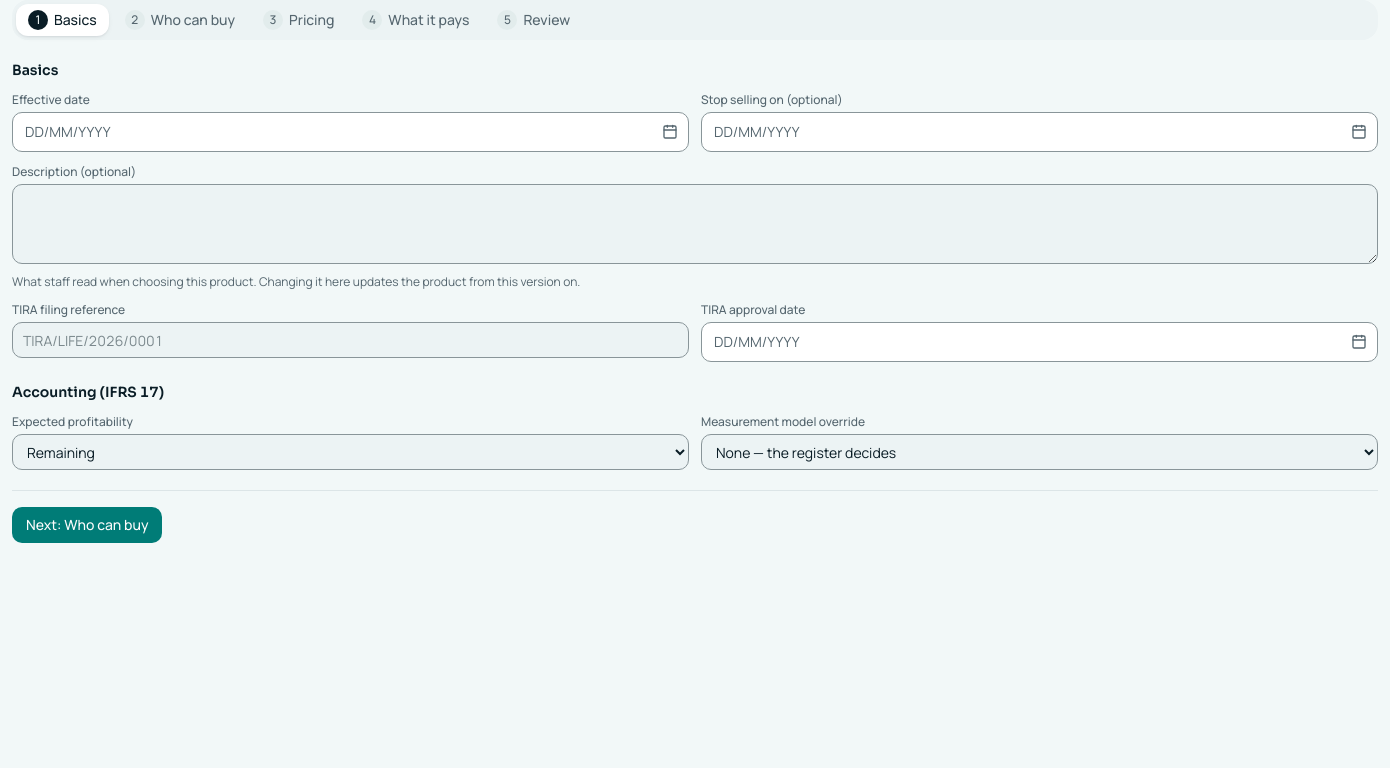
Scenario: PublishVersionForm steps › lists what is wrong on Review, with the way back to it
Click the button "5 Review" at (534, 20), box [485,4,582,36]
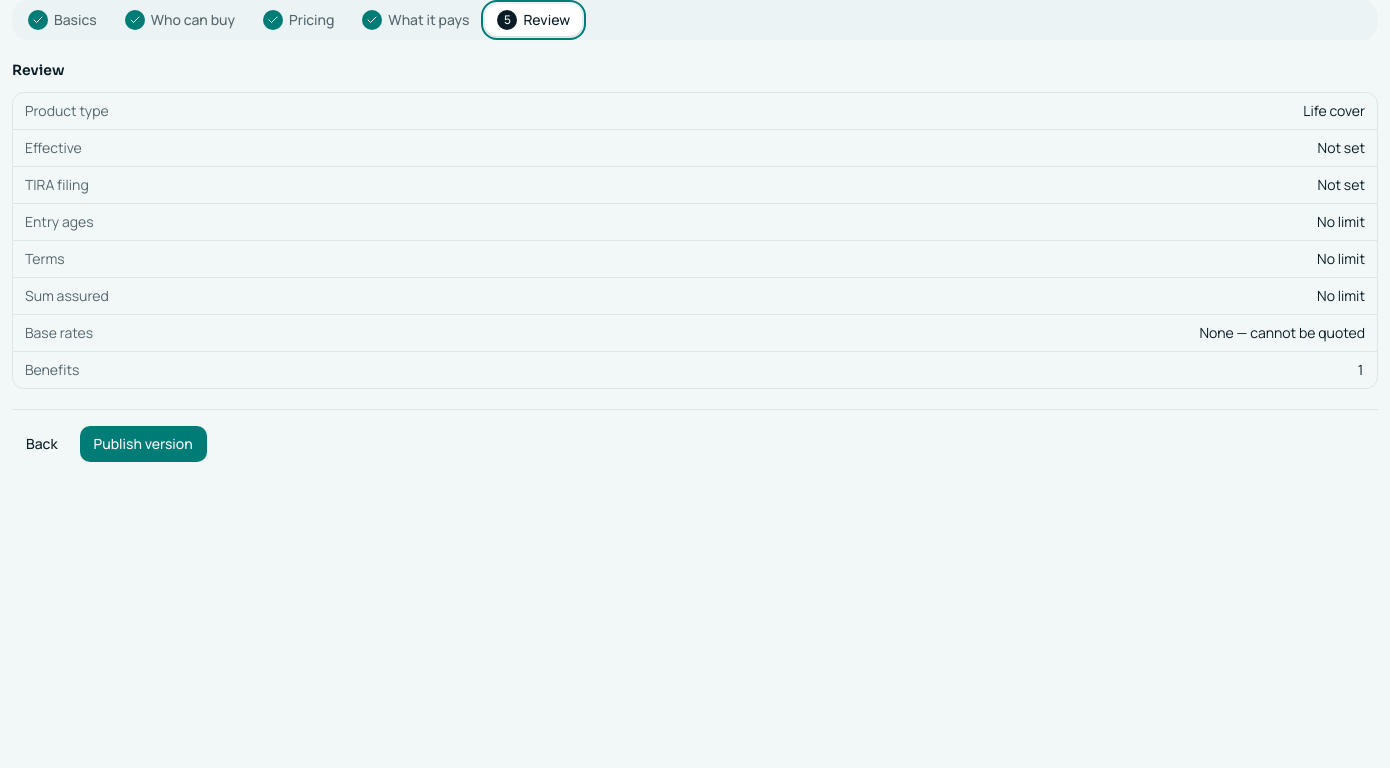
Click the button "Publish version" at (143, 444), box [80,426,207,462]
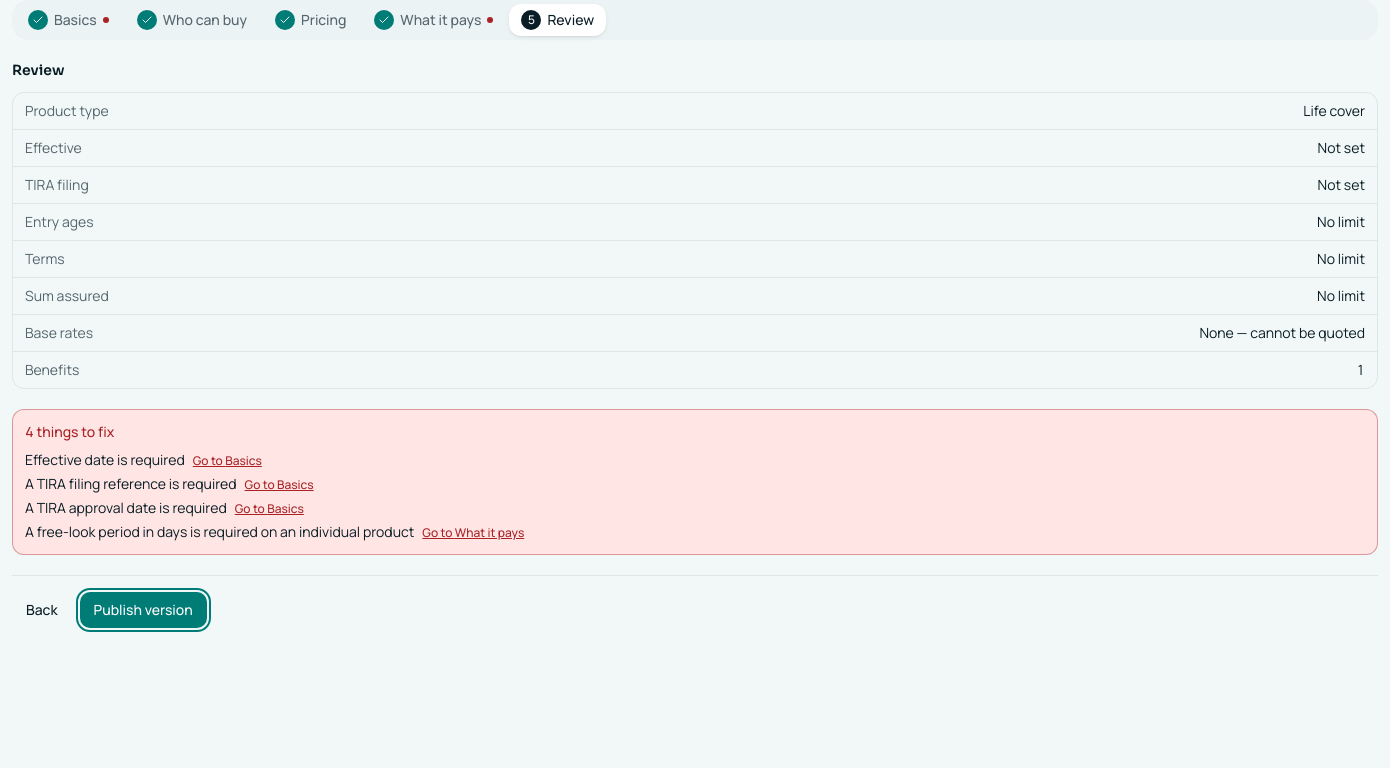
Check: the text "Effective date is required" is shown, box [25,450,185,470]
Click the button "Go to Basics" next to "Effective date is required" at (227, 461), box [193,453,262,469]
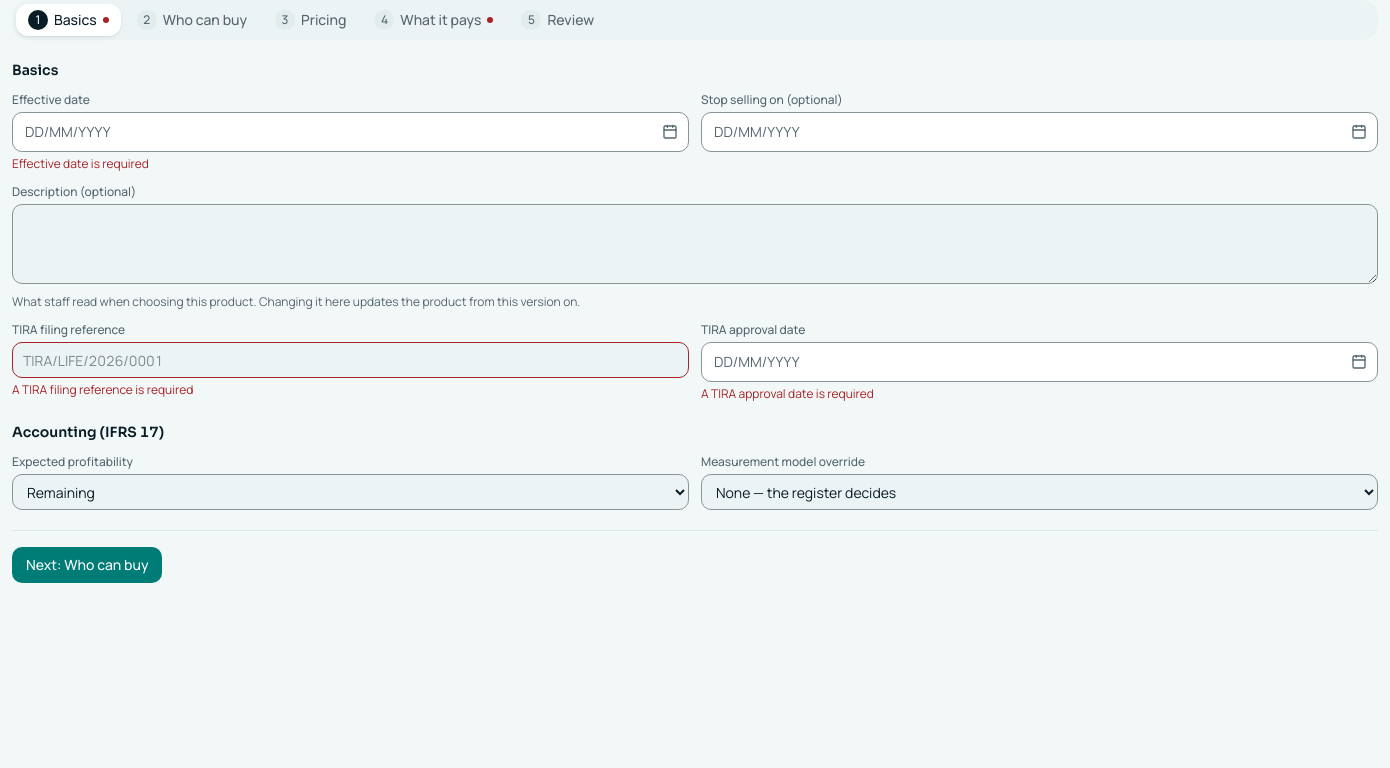
Check: the field labelled "Effective date" is shown, box [25,122,656,142]
